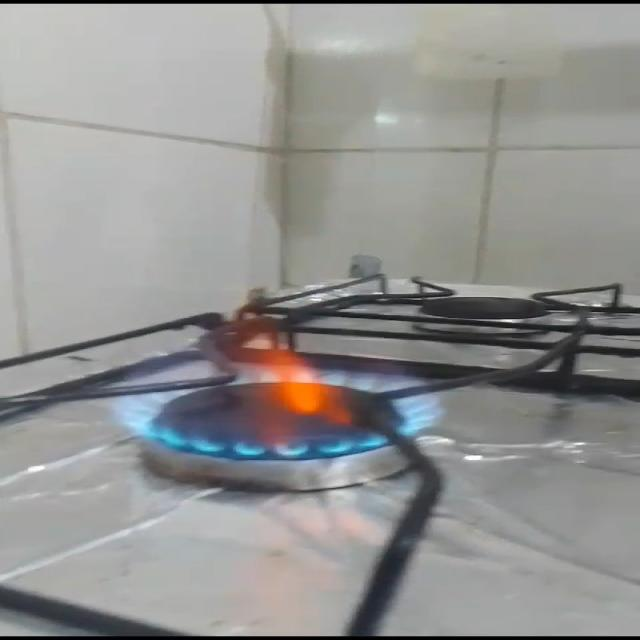fogo-ypXI: (96, 305, 449, 459)
